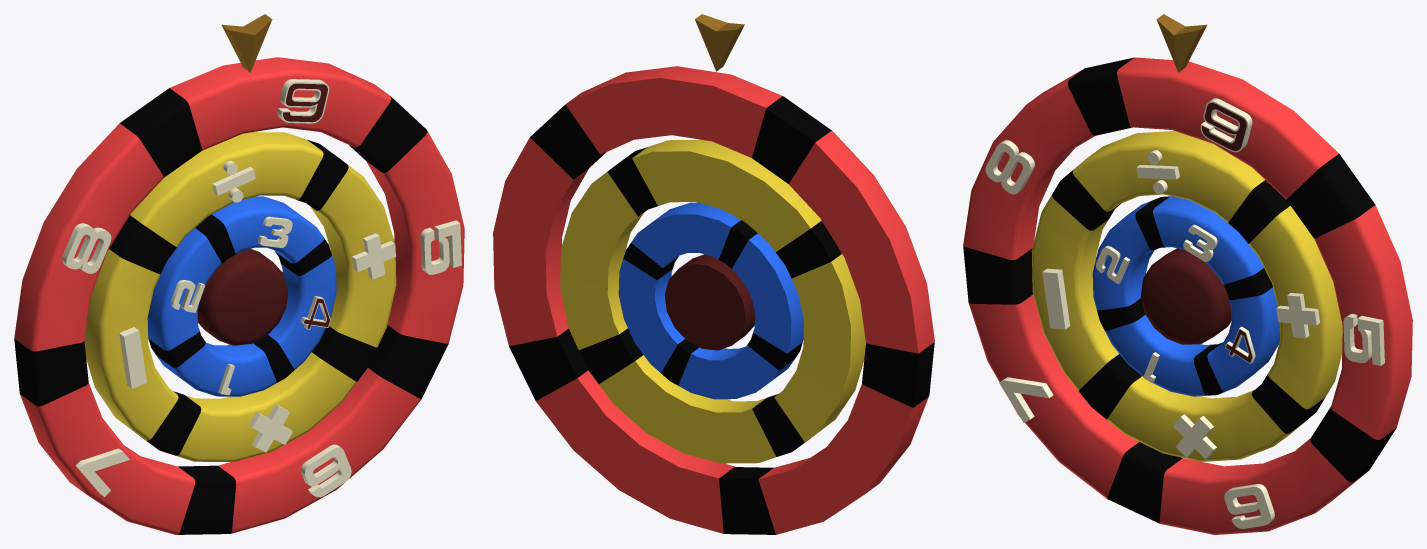
The model's file is baraban_var2.fbx.
3 renders of one model, left to right at view 1: azimuth 30°, elevation 25°; view 2: azimuth 150°, elevation 25°; view 3: azimuth 330°, elevation 25°, orthographic.
Visible parts, largest first — view 1: big krug, middle krug, small krug, center, strelka; view 2: big krug, middle krug, small krug, center, strelka; view 3: big krug, middle krug, small krug, center, strelka.
Boxes of the visible parts, left/top/right/bottom form: big krug: left=14, top=57, right=464, bottom=534; middle krug: left=84, top=132, right=396, bottom=461; small krug: left=147, top=196, right=336, bottom=396; center: left=197, top=249, right=288, bottom=345; strelka: left=221, top=14, right=272, bottom=72; big krug: left=493, top=66, right=934, bottom=534; middle krug: left=560, top=139, right=865, bottom=463; small krug: left=618, top=202, right=803, bottom=399; center: left=664, top=254, right=754, bottom=350; strelka: left=695, top=14, right=744, bottom=71; big krug: left=963, top=57, right=1412, bottom=534; middle krug: left=1031, top=131, right=1342, bottom=461; small krug: left=1092, top=196, right=1279, bottom=396; center: left=1140, top=248, right=1231, bottom=344; strelka: left=1156, top=14, right=1206, bottom=72.
Bounding box in the file's own units: 690 × 770 × 64.79.
